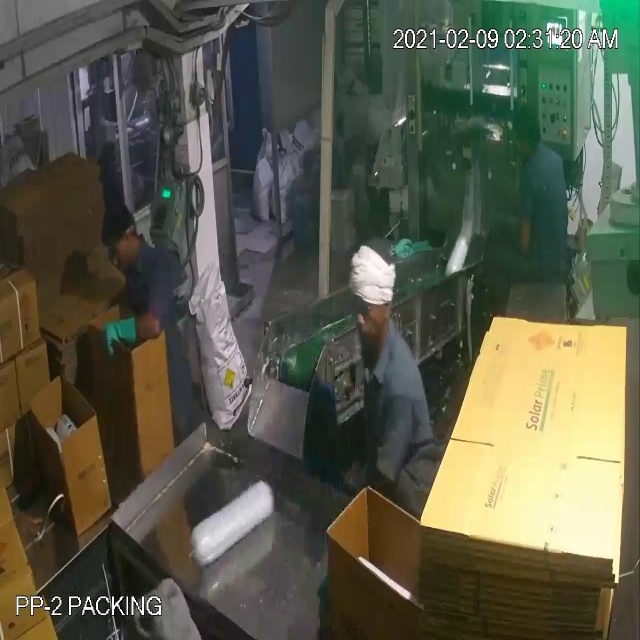Guantes: (88, 299, 152, 368)
